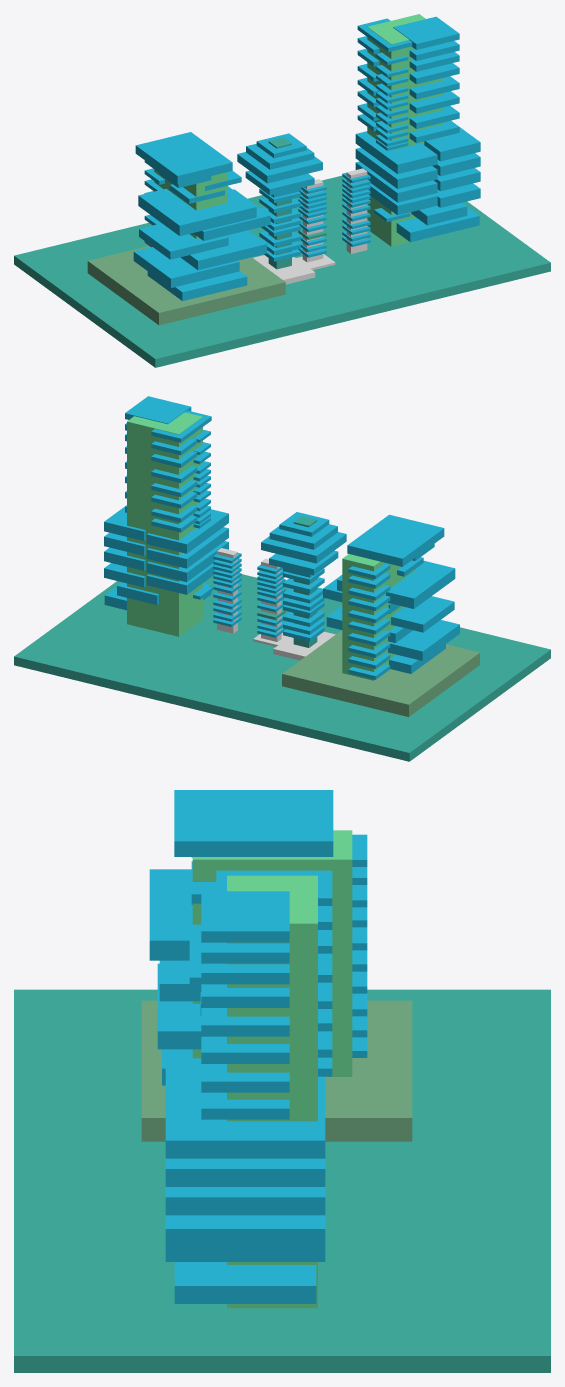
Rendered from City_Awat_Main_Level.fbx.
3 views of the same model, one above another, from view 1: azimuth 30°, elevation 25°; view 2: azimuth 150°, elevation 25°; view 3: azimuth 270°, elevation 25° (orthographic). The views are drawn at different scales.
Parts seen in each view (by area): view 1: Cube.068, Cube.002, Cube.081, Cube.062, Cube.007, Cube.058, Cube.057, Cube.095, Cube.004, Cube.089, Cube.090, Cube.060 (+26 smaller); view 2: Cube.068, Cube.081, Cube.002, Cube.007, Cube.056, Cube.062, Cube.058, Cube.057, Cube.095, Cube.041, Cube.094, Cube.089 (+16 smaller); view 3: Cube.068, Cube.002, Cube.081, Cube.007, Cube.056, Cube.099, Cube.090, Cube.092, Cube.097, Cube.098, Cube.089, Cube.062 (+14 smaller).
Boxes of the visible parts, left/top/right/bottom form: Cube.068: left=14, top=175, right=550, bottom=367; Cube.002: left=87, top=246, right=285, bottom=325; Cube.081: left=367, top=14, right=443, bottom=246; Cube.062: left=138, top=186, right=256, bottom=235; Cube.007: left=135, top=132, right=232, bottom=184; Cube.058: left=133, top=247, right=239, bottom=287; Cube.057: left=139, top=223, right=228, bottom=259; Cube.095: left=355, top=131, right=437, bottom=174; Cube.004: left=180, top=230, right=266, bottom=270; Cube.089: left=393, top=16, right=459, bottom=49; Cube.090: left=396, top=207, right=479, bottom=242; Cube.060: left=147, top=271, right=247, bottom=301; Cube.068: left=14, top=574, right=550, bottom=761; Cube.081: left=127, top=412, right=202, bottom=636; Cube.002: left=282, top=630, right=479, bottom=716; Cube.007: left=347, top=514, right=444, bottom=566; Cube.056: left=342, top=554, right=415, bottom=680; Cube.062: left=337, top=560, right=455, bottom=608; Cube.058: left=388, top=620, right=459, bottom=660; Cube.057: left=391, top=596, right=454, bottom=632; Cube.095: left=146, top=509, right=228, bottom=553; Cube.041: left=261, top=532, right=346, bottom=563; Cube.094: left=146, top=527, right=228, bottom=568; Cube.089: left=125, top=396, right=191, bottom=424; Cube.068: left=14, top=989, right=550, bottom=1372; Cube.002: left=141, top=1000, right=412, bottom=1141; Cube.081: left=227, top=875, right=317, bottom=1308; Cube.007: left=174, top=790, right=333, bottom=856; Cube.056: left=192, top=830, right=352, bottom=1076; Cube.099: left=165, top=1103, right=325, bottom=1158; Cube.090: left=174, top=1262, right=316, bottom=1303; Cube.092: left=165, top=1215, right=325, bottom=1246; Cube.097: left=165, top=1187, right=325, bottom=1215; Cube.098: left=165, top=1158, right=325, bottom=1186; Cube.089: left=201, top=891, right=289, bottom=942; Cube.062: left=149, top=869, right=201, bottom=960.
Bounding box in the file's own units: 9700 × 5066 × 6008.
